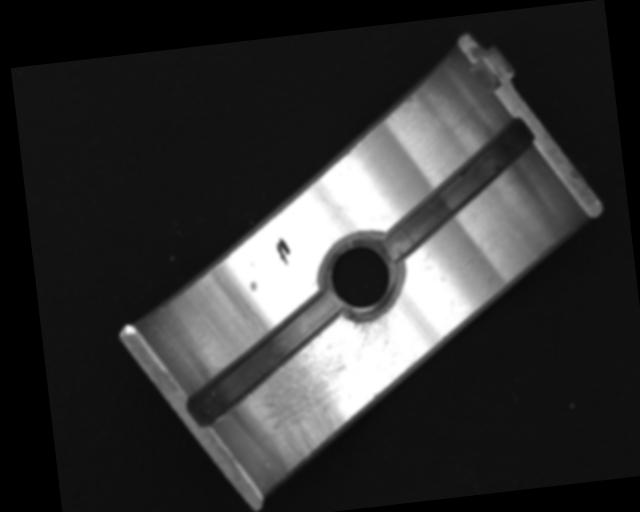blot: (274, 236, 293, 267)
bruise: (248, 280, 258, 293)
gap: (367, 117, 546, 261), (174, 294, 347, 428)
hole: (316, 231, 410, 321)
scratch: (243, 308, 410, 475)
